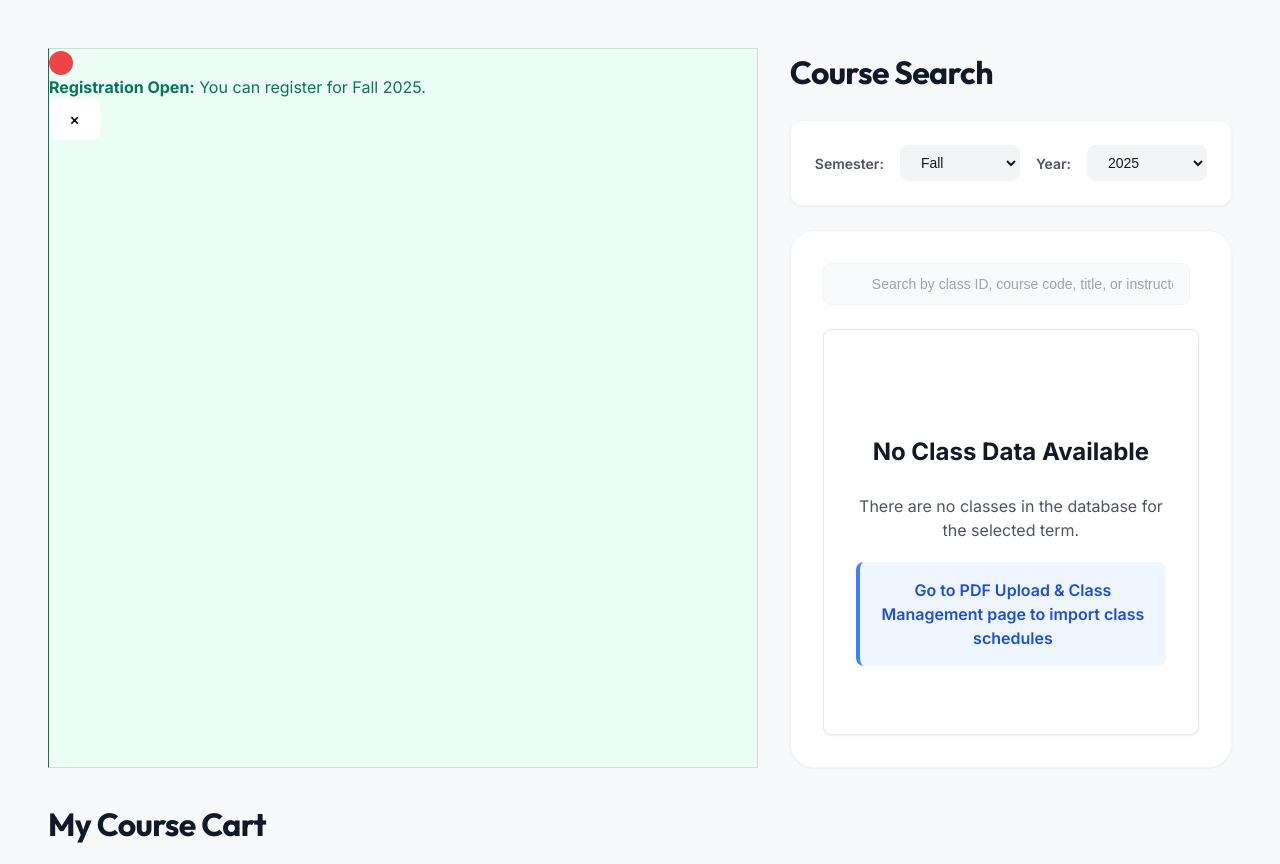
Test: CourseRegistration › a class already in the cart cannot be added again
Later steps or results of the test are not shown.
Check: the heading "Course Search" is shown, box [790,52,993,92]
Type "CSE101" into the field with placeholder "Search by class ID, course code, title, or instructor...". click: (1006, 284)
box: [823,263,1190,305]
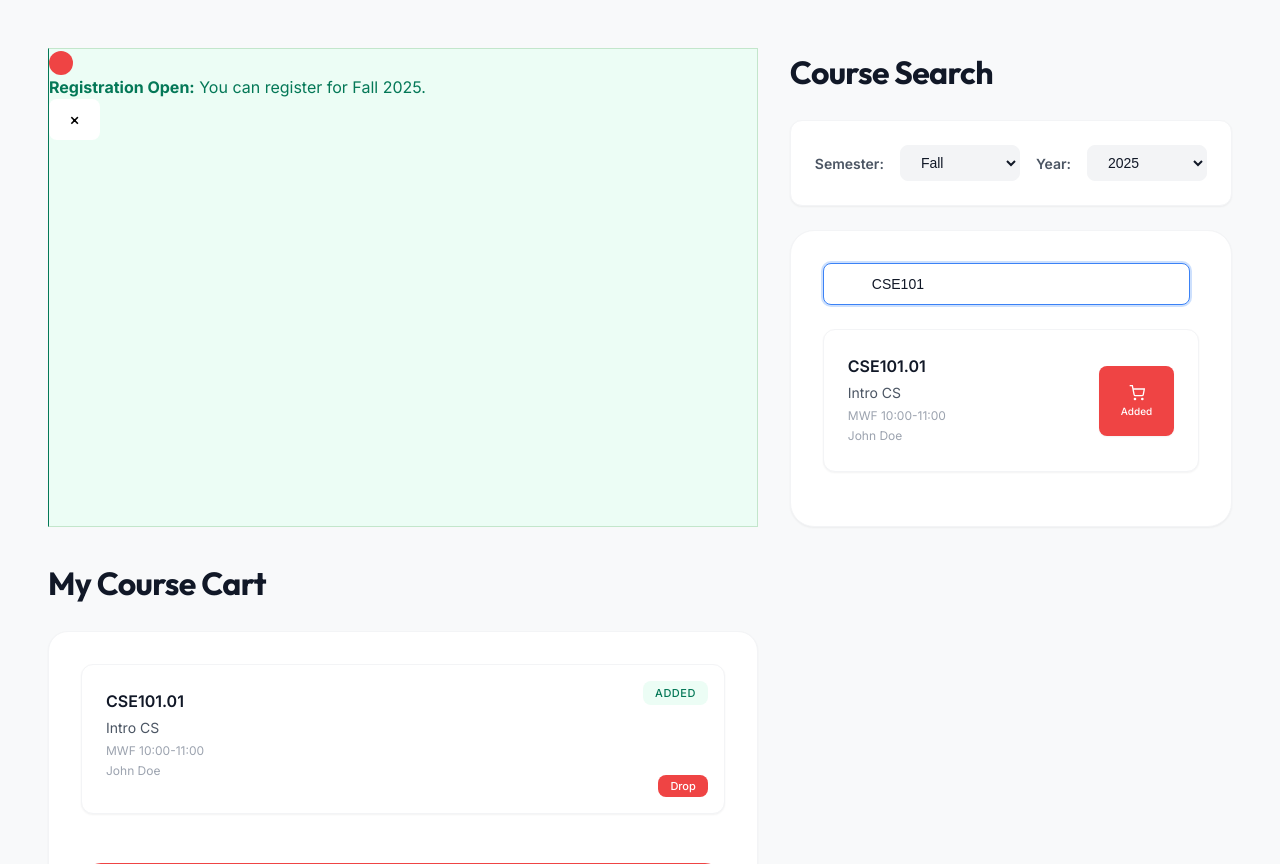
Check: the button "Added" is disabled, box [1099,366,1174,436]
